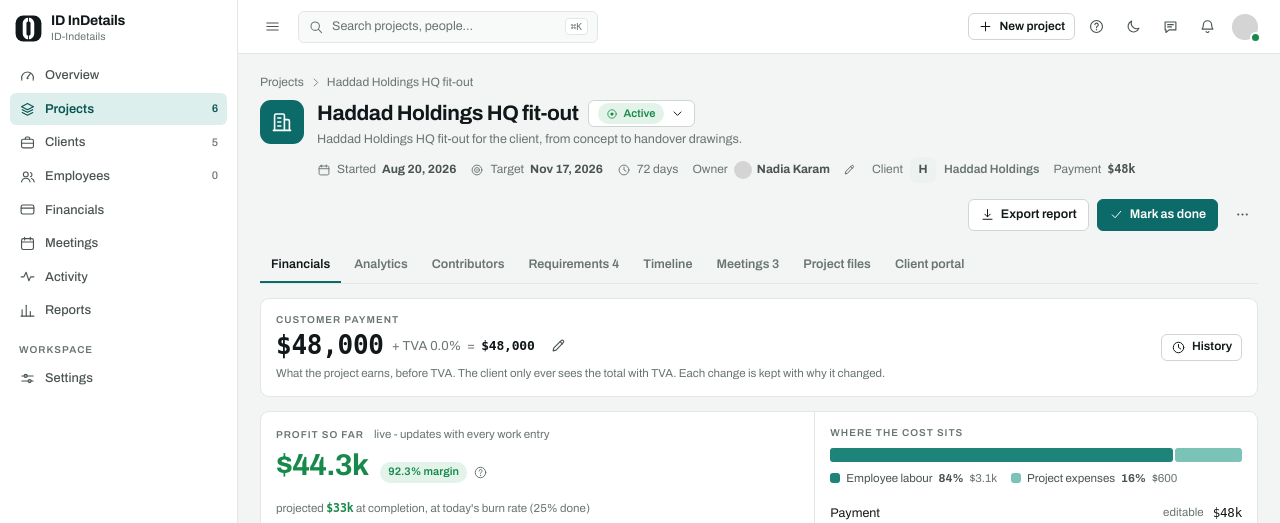
Test case: a project › puts it on hold through the API
Click the button named "More actions": (1242, 214) left=1226, top=198, right=1258, bottom=230
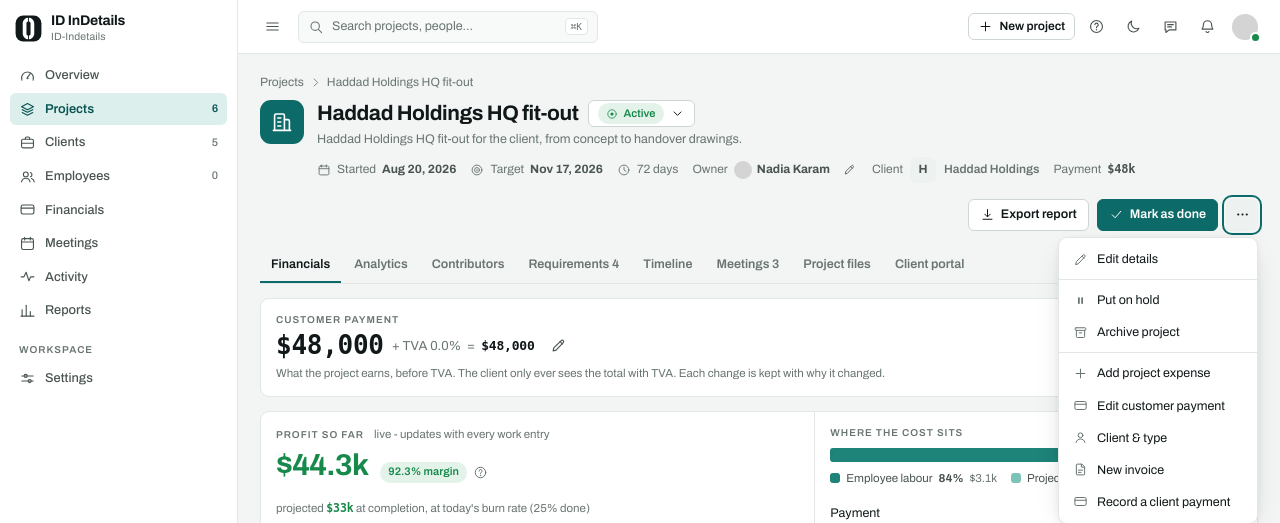
Click the button "Put on hold": (1158, 300) left=1064, top=284, right=1252, bottom=316
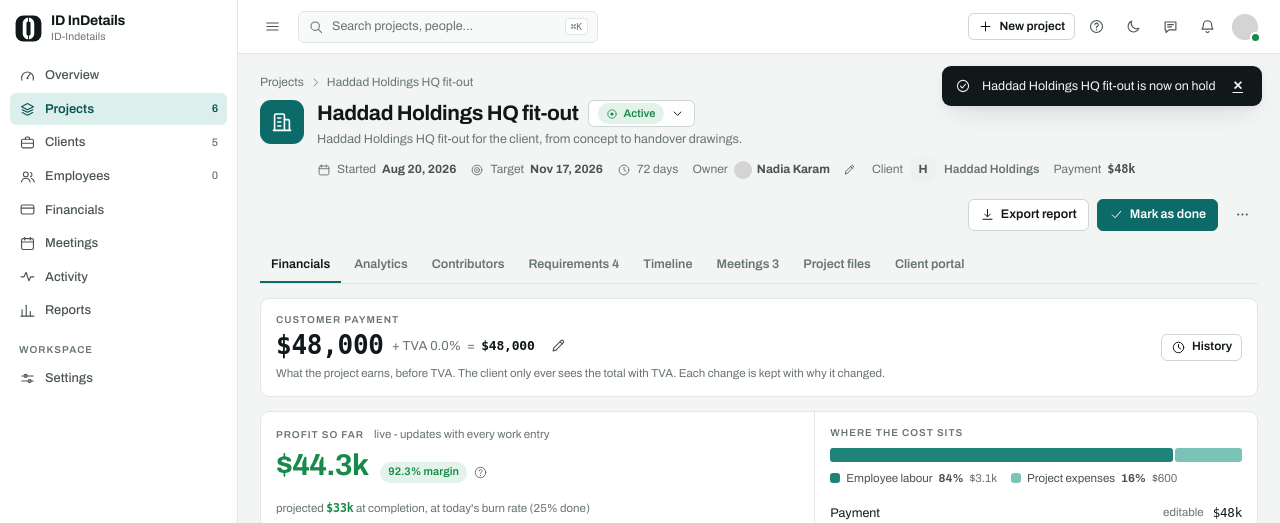
Check: the text "Haddad Holdings HQ fit-out is now on hold" is shown, box left=982, top=77, right=1216, bottom=95
